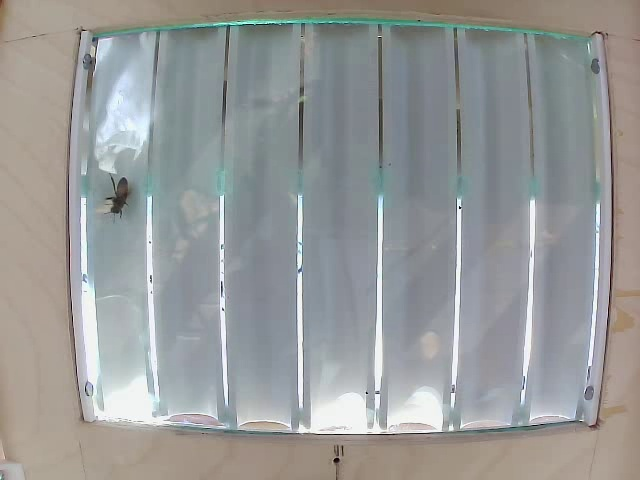bee: (100, 173, 125, 232)
